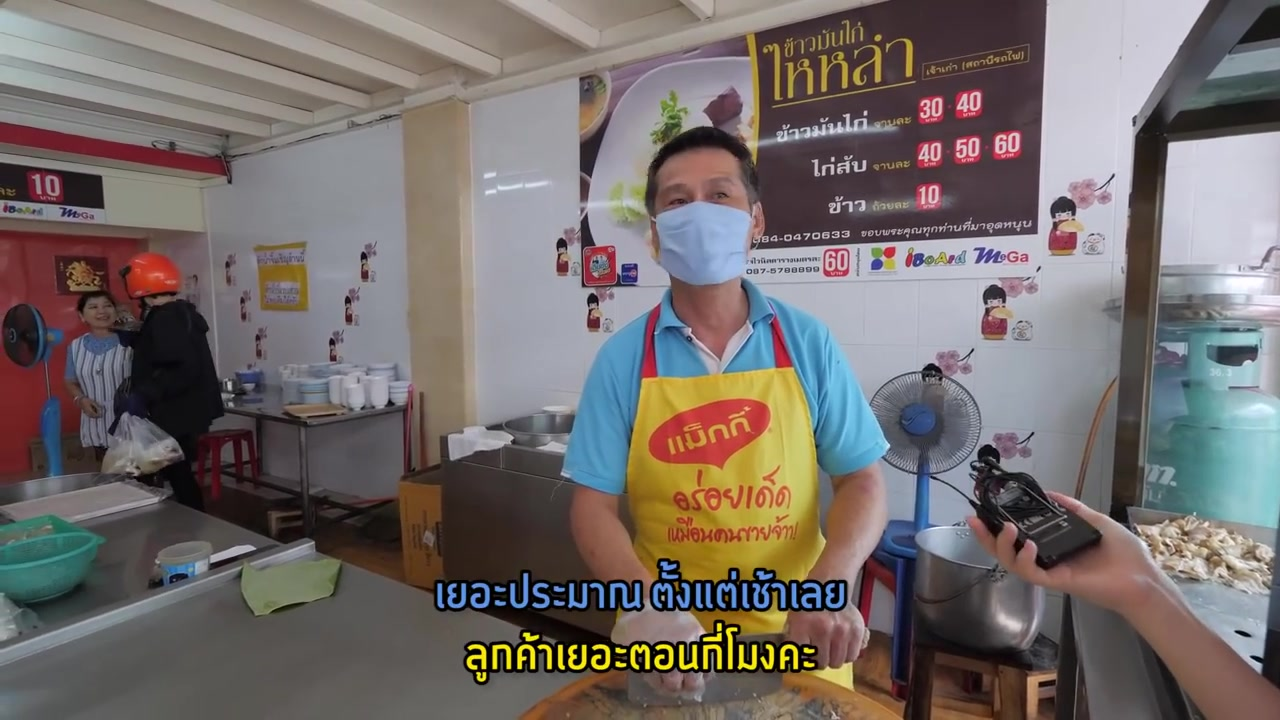text-label: (430, 554, 852, 616), (459, 615, 820, 684)
